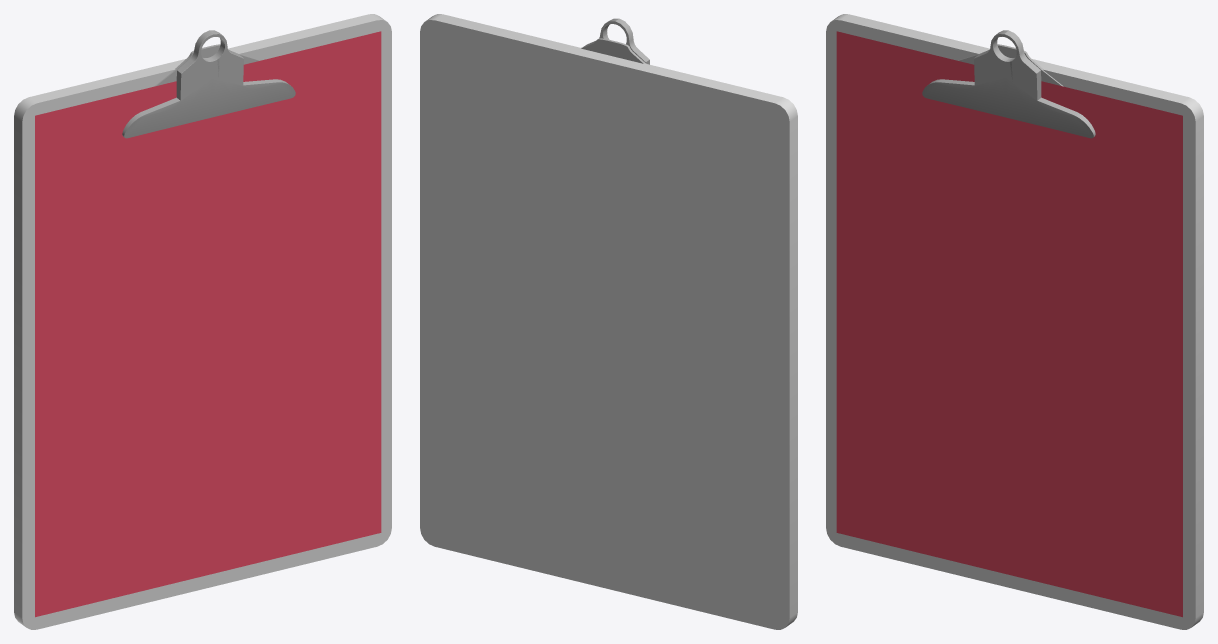
Rendered from clipboard.fbx.
3 renders of one model, left to right at view 1: azimuth 30°, elevation 25°; view 2: azimuth 150°, elevation 25°; view 3: azimuth 330°, elevation 25°, orthographic.
Parts seen in each view (by area): view 1: Plane.001, Cube, Plane, Cube.001; view 2: Cube, Cube.001, Plane; view 3: Plane.001, Cube, Plane, Cube.001.
Part boxes in pixels (x1,y1,x2,y2): Plane.001: [35, 31, 381, 617]; Cube: [14, 14, 391, 629]; Plane: [122, 30, 295, 138]; Cube.001: [154, 44, 259, 86]; Cube: [420, 14, 797, 629]; Cube.001: [581, 38, 646, 63]; Plane: [583, 18, 649, 64]; Plane.001: [836, 31, 1182, 617]; Cube: [826, 14, 1203, 629]; Plane: [922, 30, 1095, 138]; Cube.001: [958, 44, 1063, 86].
Size of the model in its own units: 31 by 44.81 by 2.13.
